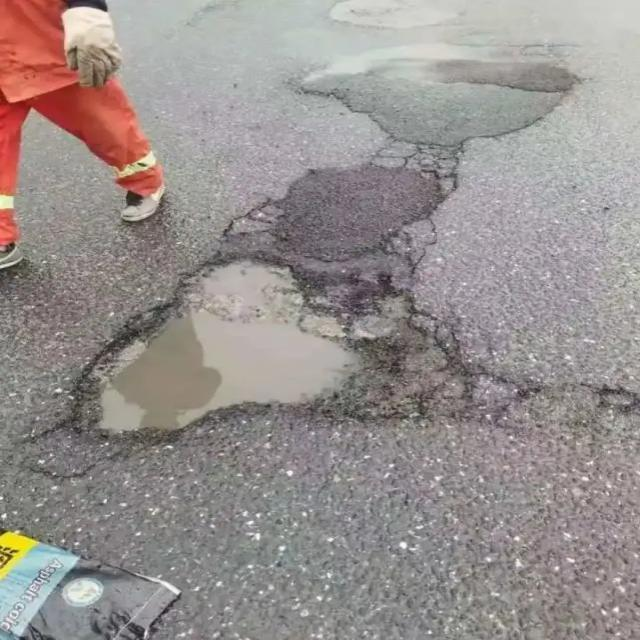pothole: (70, 251, 414, 446)
